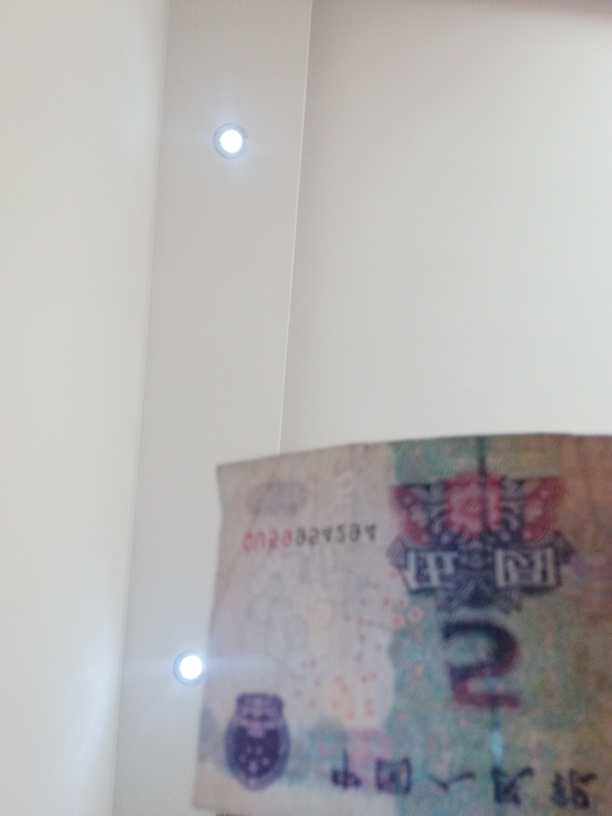rmb: (195, 437, 612, 811)
